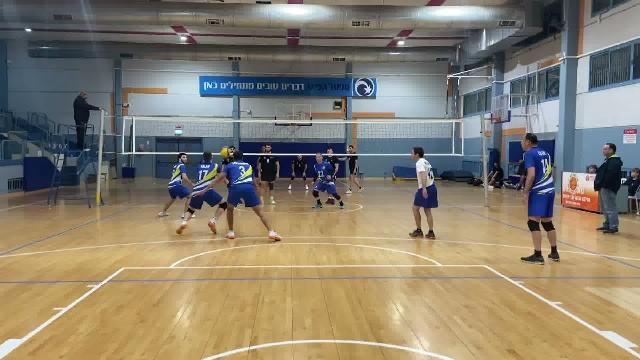ball: (221, 148, 230, 160)
